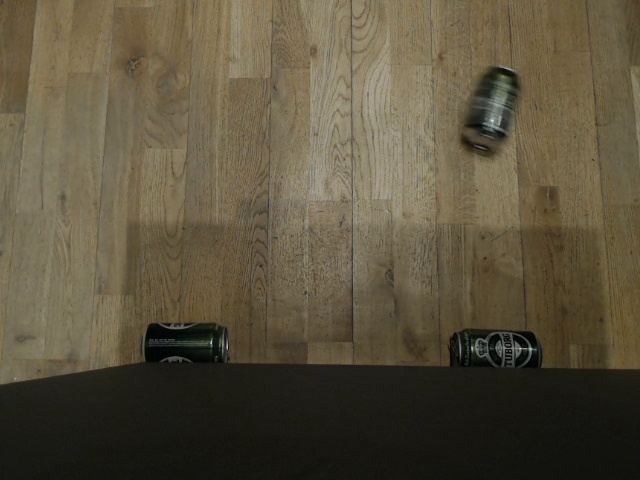beer: (460, 66, 520, 150), (138, 318, 230, 366), (446, 327, 545, 369)
